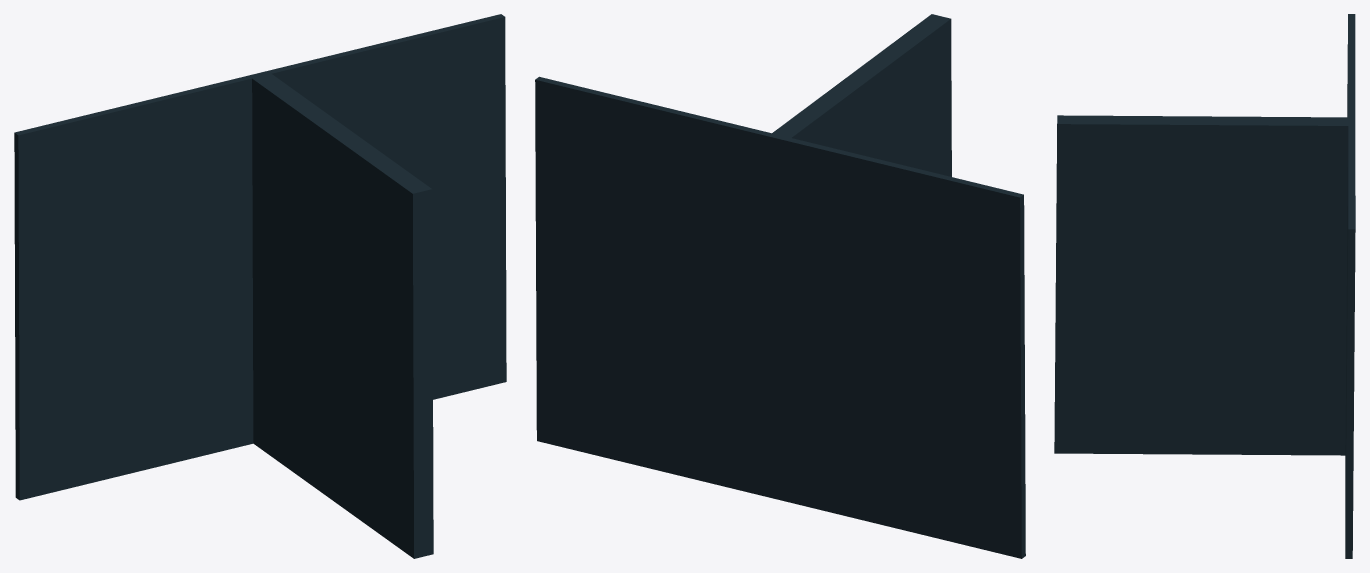
File: Wall 001.fbx
3 views of the same model, side by side, from view 1: azimuth 30°, elevation 25°; view 2: azimuth 150°, elevation 25°; view 3: azimuth 270°, elevation 25° (orthographic). The views are drawn at different scales.
Parts seen in each view (by area): view 1: wall 001; view 2: wall 001; view 3: wall 001.
Part boxes in pixels (left/top/right/bottom): wall 001: left=14, top=14, right=506, bottom=558; wall 001: left=535, top=14, right=1025, bottom=558; wall 001: left=1054, top=14, right=1355, bottom=558.
Bounding box in the file's own units: 178 × 128 × 105.
Materials: 1 (1 with a texture image).
